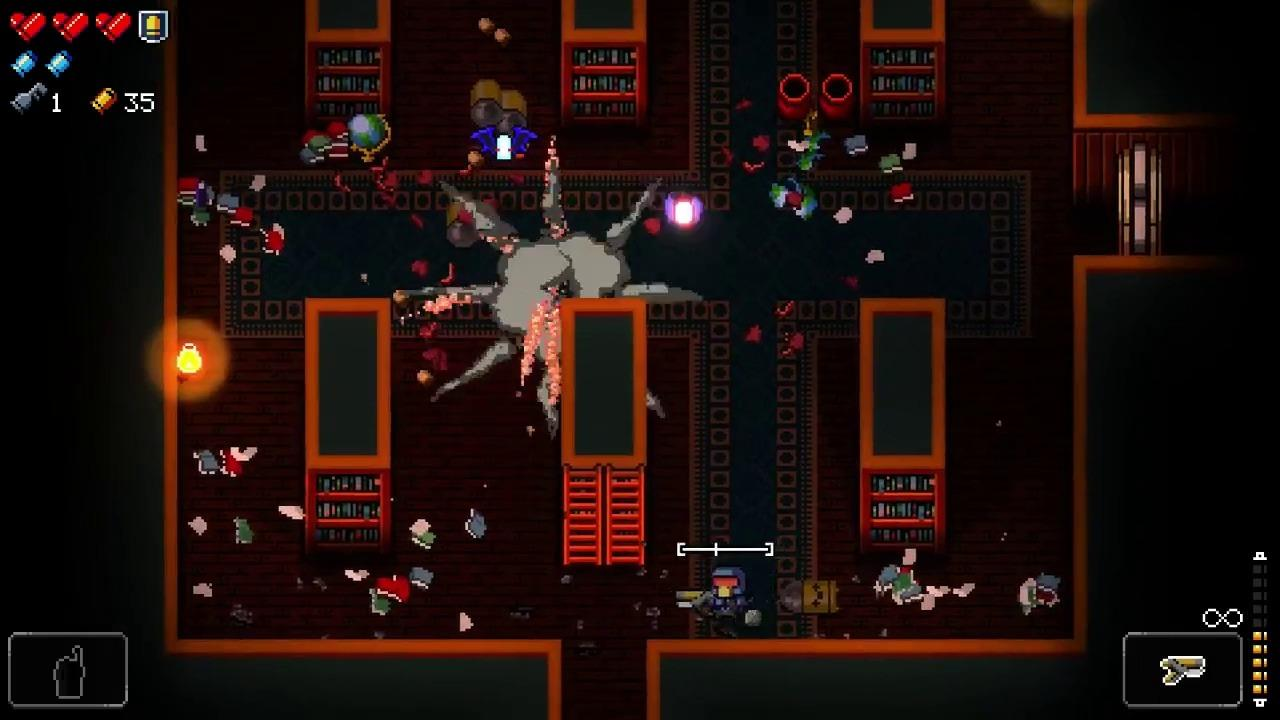dead_bullet_kin: (779, 579, 841, 615), (469, 76, 504, 125)
locked_door: (1112, 139, 1164, 256)
player: (709, 566, 747, 615)
spirat: (472, 127, 538, 163)
